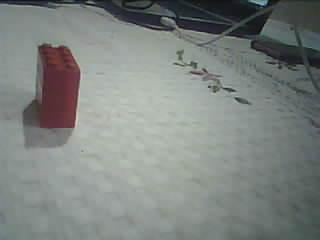lego: (33, 42, 82, 128)
